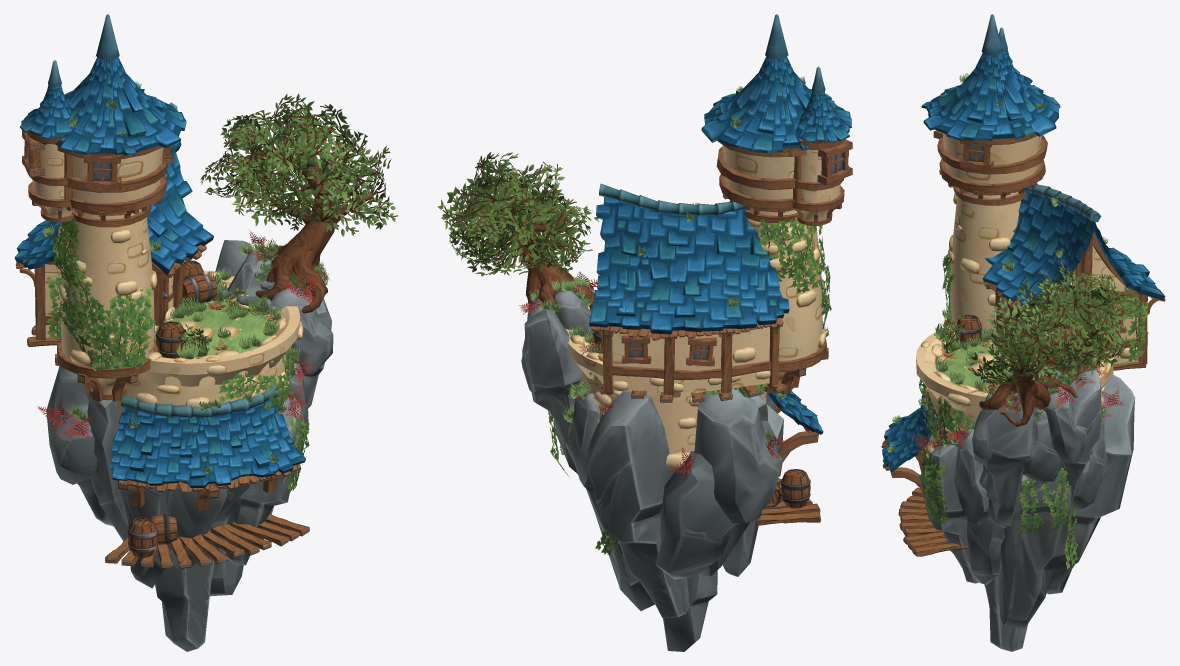
3 views of the same model, side by side, from view 1: azimuth 30°, elevation 25°; view 2: azimuth 150°, elevation 25°; view 3: azimuth 270°, elevation 25° (orthographic). The views are drawn at different scales.
Parts seen in each view (by area): view 1: roof, rocks_Material #413_0, leaves_op branches_0, tower base_wall_0, wood structure_wooden skel no op_0, klimop, base tower, grass_op branches_0, wood beams_wooden skel no op_0, tree trunk, stone details_wall_0, barrels (+5 smaller); view 2: rocks_Material #413_0, roof, leaves_op branches_0, wood structure_wooden skel no op_0, tower base_wall_0, house base_wall_0, klimop, stone details_wall_0, base tower, grass_op branches_0, windows_wooden skel no op_0, tree trunk (+4 smaller); view 3: rocks_Material #413_0, roof, leaves_op branches_0, tower base_wall_0, klimop, wood structure_wooden skel no op_0, grass_op branches_0, tree trunk, base tower, stone details_wall_0, wood beams_wooden skel no op_0, ferns_Material #650_0 (+4 smaller).
Part boxes in pixels (x1,y1,x2,y2): roof: (14,14,305,487); rocks_Material #413_0: (46,240,333,651); leaves_op branches_0: (177,93,397,355); tower base_wall_0: (32,144,162,400); wood structure_wooden skel no op_0: (19,132,298,510); klimop: (46,218,309,492); base tower: (116,271,300,427); grass_op branches_0: (42,81,328,473); wood beams_wooden skel no op_0: (27,325,309,568); tree trunk: (240,150,372,313); stone details_wall_0: (58,222,303,407); barrels: (127,260,217,557); rocks_Material #413_0: (521,288,783,651); roof: (589,14,851,434); leaves_op branches_0: (437,152,599,276); wood structure_wooden skel no op_0: (603,139,845,476); tower base_wall_0: (722,145,840,385); house base_wall_0: (612,326,769,392); klimop: (548,217,831,556); stone details_wall_0: (570,218,825,469); base tower: (565,306,766,453); grass_op branches_0: (529,76,831,439); windows_wooden skel no op_0: (621,139,852,366); tree trunk: (489,189,594,314); rocks_Material #413_0: (919,366,1135,651); roof: (882,14,1165,472); leaves_op branches_0: (941,261,1147,387); tower base_wall_0: (942,133,1041,332); klimop: (918,249,1149,569); wood structure_wooden skel no op_0: (885,84,1158,503); grass_op branches_0: (886,73,1108,454); tree trunk: (979,284,1084,426); base tower: (916,326,1113,448); stone details_wall_0: (921,192,1137,459); wood beams_wooden skel no op_0: (898,362,1146,556); ferns_Material #650_0: (913,340,1125,454).
Size of the model in its own units: 179 by 298 by 129.
10 materials, 10 textured.
